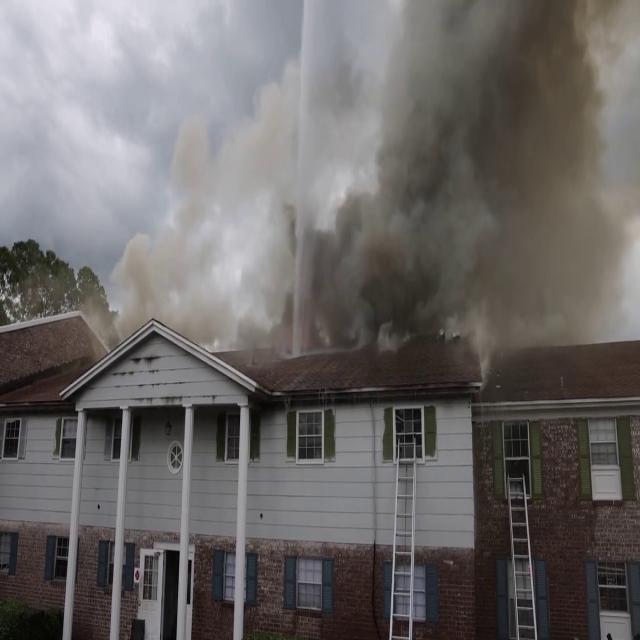Smoke: (262, 0, 638, 364), (100, 119, 234, 350)
